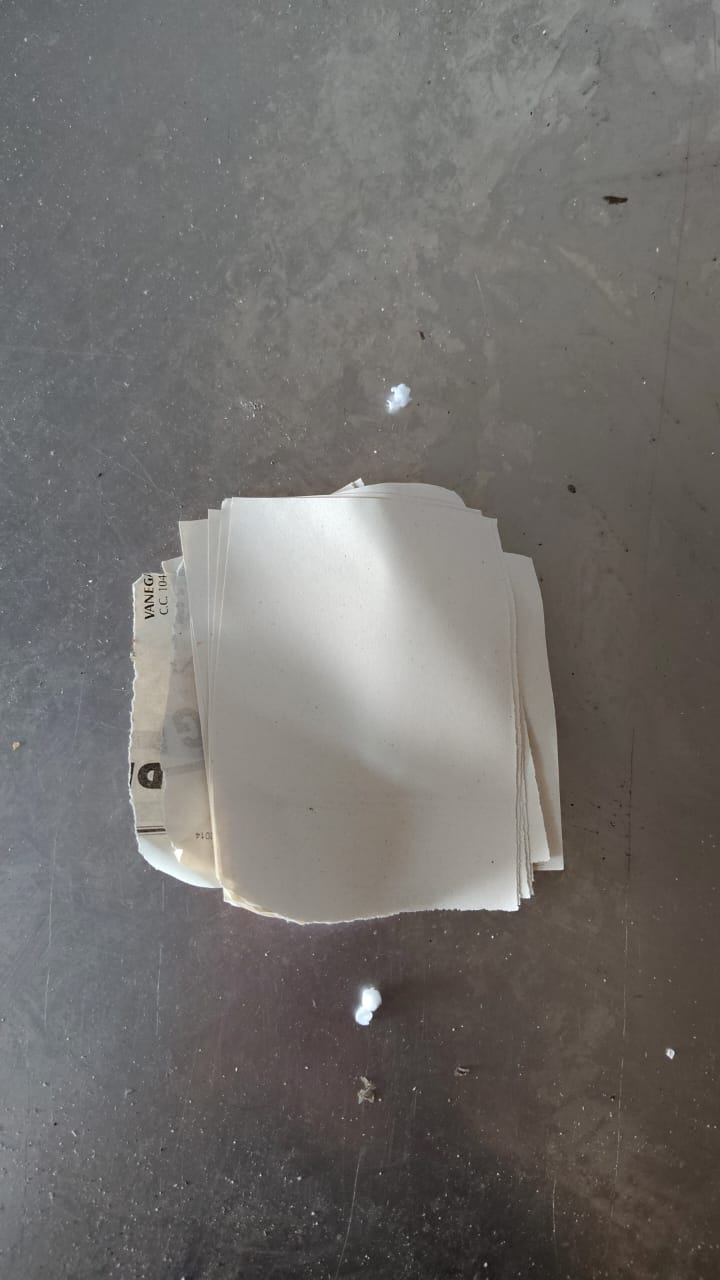Papel: (116, 478, 591, 923)
